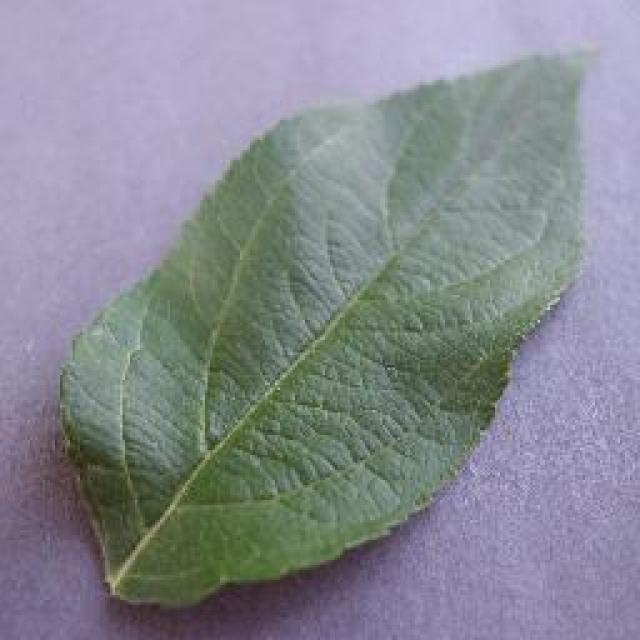Apple___healthy: (48, 35, 600, 633)
